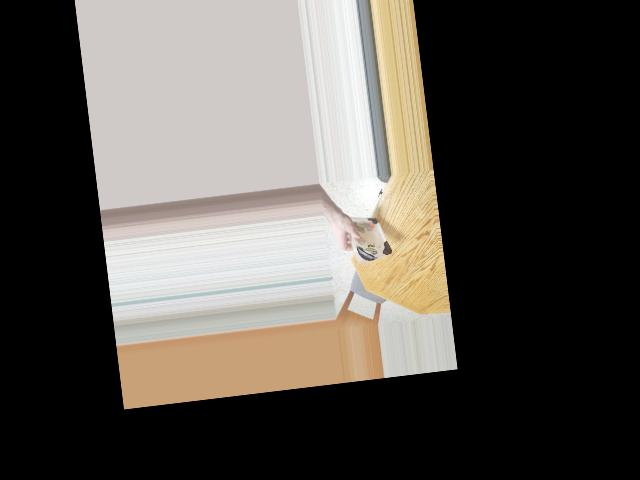cheese: (347, 211, 388, 266)
